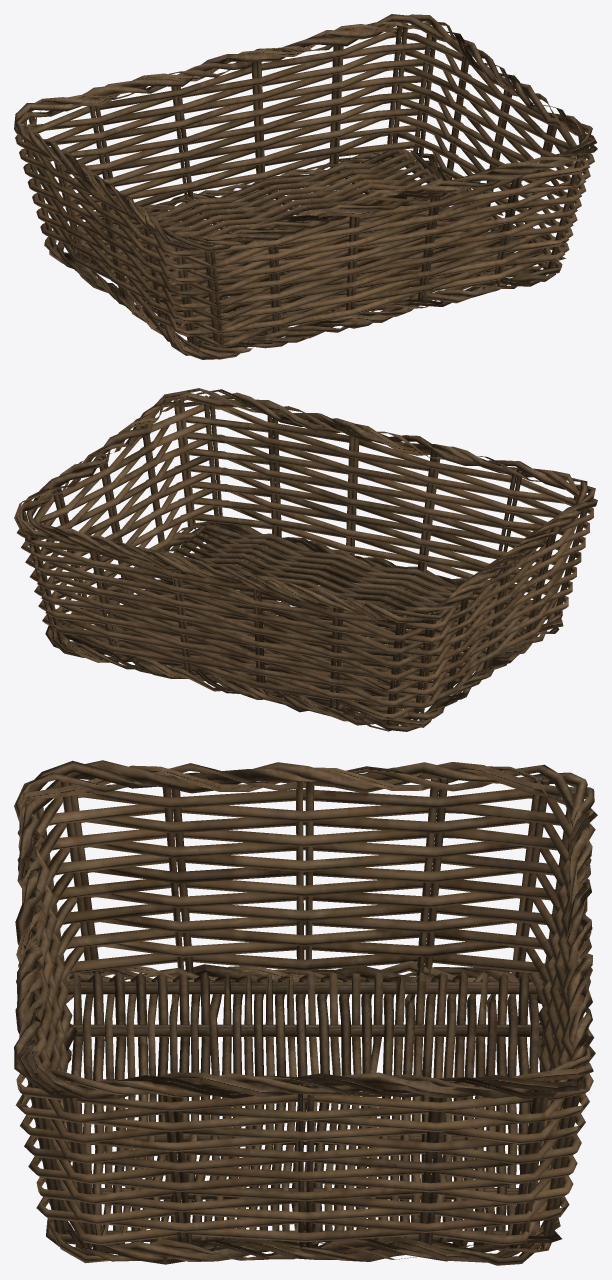
File: wicker_basket_01.gltf
The picture shows the model from 3 angles, top to bottom: view 1: azimuth 30°, elevation 25°; view 2: azimuth 150°, elevation 25°; view 3: azimuth 270°, elevation 25°; orthographic projection. The views are drawn at different scales.
Parts seen in each view (by area): view 1: basket; view 2: basket; view 3: basket.
Boxes of the visible parts, x1,y1,x2,y2 form: basket: [14, 14, 597, 359]; basket: [14, 388, 597, 731]; basket: [14, 760, 597, 1265].
Size of the model in its own units: 0.383 by 0.1174 by 0.2928.
Materials: 1 (1 with a texture image).
